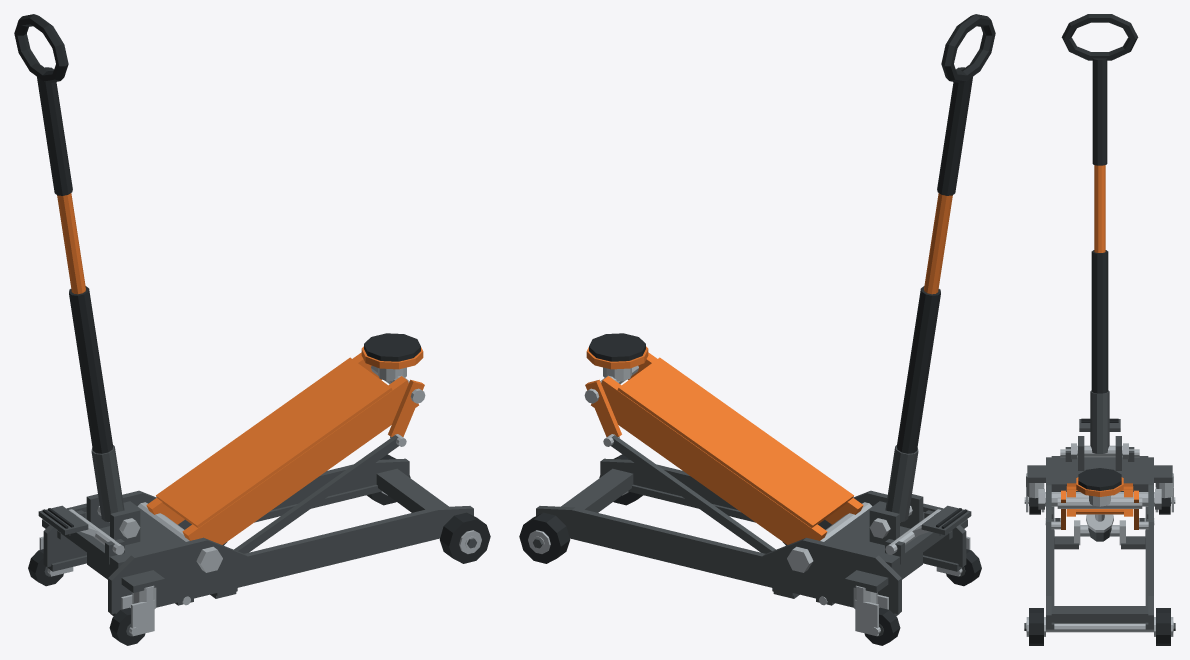
3 views of the same model, side by side, from view 1: azimuth 30°, elevation 25°; view 2: azimuth 150°, elevation 25°; view 3: azimuth 270°, elevation 25° (orthographic). The views are drawn at different scales.
Visible parts, largest first — view 1: Arm crown plate, Chassis rail -1, Lifting channel wall -1, Handle protective sleeve, Chassis rail 1, Rear bridge, Leveling link -1, Handle upper sleeve, Closed D grip, Front crossmember, Handle lower socket, Front wheel -1 (+9 smaller); view 2: Arm crown plate, Chassis rail 1, Lifting channel wall 1, Handle protective sleeve, Chassis rail -1, Rear bridge, Leveling link 1, Handle upper sleeve, Closed D grip, Front crossmember, Handle lower socket, Front wheel 1 (+9 smaller); view 3: Handle protective sleeve, Rear bridge, Front crossmember, Handle upper sleeve, Closed D grip, Handle lower socket, Handle stem, Chassis rail -1, Chassis rail 1, Front through axle, Saddle rubber pad, Saddle hinge axle (+18 smaller).
Boxes of the visible parts, bbox=[...] form: Arm crown plate: bbox=[156, 357, 392, 527]; Chassis rail -1: bbox=[108, 506, 473, 614]; Lifting channel wall -1: bbox=[182, 376, 418, 544]; Handle protective sleeve: bbox=[69, 286, 113, 453]; Chassis rail 1: bbox=[43, 458, 409, 567]; Rear bridge: bbox=[57, 501, 185, 571]; Leveling link -1: bbox=[234, 435, 398, 553]; Handle upper sleeve: bbox=[37, 67, 72, 195]; Closed D grip: bbox=[14, 14, 68, 83]; Front crossmember: bbox=[376, 468, 448, 512]; Handle lower socket: bbox=[91, 445, 124, 521]; Front wheel -1: bbox=[439, 512, 490, 563]; Arm crown plate: bbox=[617, 357, 853, 527]; Chassis rail 1: bbox=[536, 506, 901, 614]; Lifting channel wall 1: bbox=[591, 376, 827, 544]; Handle protective sleeve: bbox=[896, 286, 940, 453]; Chassis rail -1: bbox=[600, 458, 966, 567]; Rear bridge: bbox=[824, 501, 952, 571]; Leveling link 1: bbox=[611, 435, 775, 553]; Handle upper sleeve: bbox=[937, 67, 972, 195]; Closed D grip: bbox=[941, 14, 995, 83]; Front crossmember: bbox=[561, 468, 633, 512]; Handle lower socket: bbox=[885, 445, 918, 521]; Front wheel 1: bbox=[519, 512, 570, 563]; Handle protective sleeve: bbox=[1091, 250, 1108, 393]; Rear bridge: bbox=[1051, 456, 1148, 491]; Front crossmember: bbox=[1051, 606, 1148, 623]; Handle upper sleeve: bbox=[1092, 58, 1107, 165]; Closed D grip: bbox=[1061, 14, 1138, 60]; Handle lower socket: bbox=[1090, 390, 1109, 453]; Handle stem: bbox=[1094, 165, 1105, 252]; Chassis rail -1: bbox=[1046, 457, 1051, 629]; Chassis rail 1: bbox=[1148, 457, 1153, 629]; Front through axle: bbox=[1026, 622, 1173, 632]; Saddle rubber pad: bbox=[1078, 468, 1121, 490]; Saddle hinge axle: bbox=[1057, 497, 1142, 508].
Bounding box in the file's own units: 0.9039 × 1.28 × 0.364.
